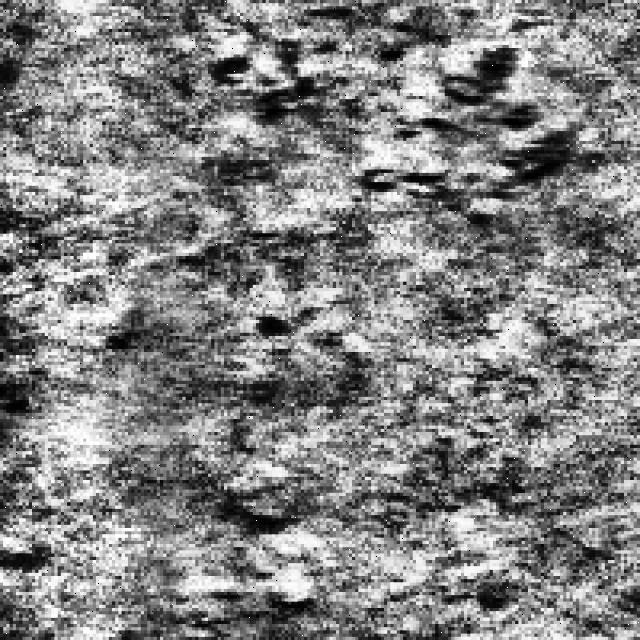Crazing: (217, 12, 564, 218)
